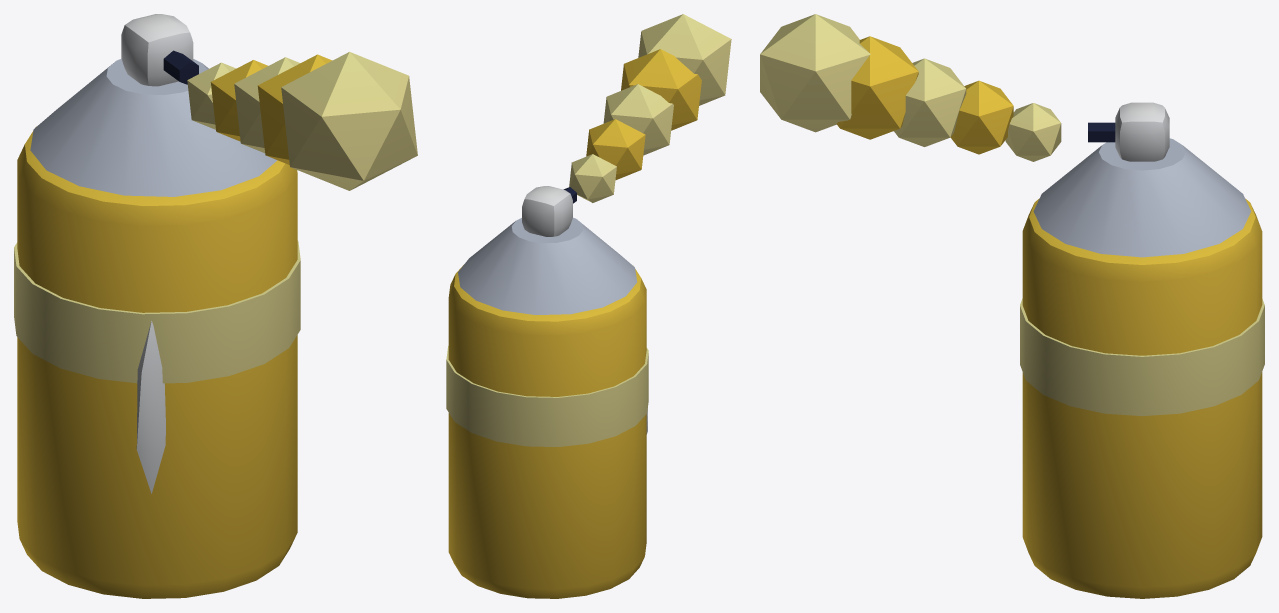
The model's file is lo_wskin_gold.glb.
3 renders of one model, left to right at view 1: azimuth 30°, elevation 25°; view 2: azimuth 150°, elevation 25°; view 3: azimuth 270°, elevation 25°, orthographic. The views are drawn at different scales.
Parts seen in each view (by area): view 1: body; view 2: body; view 3: body.
Part boxes in pixels (bbox=[...]): body: bbox=[14, 14, 417, 598]; body: bbox=[446, 14, 731, 598]; body: bbox=[760, 14, 1264, 598].
Bounding box in the file's own units: 0.45 × 1.1 × 0.9271.
